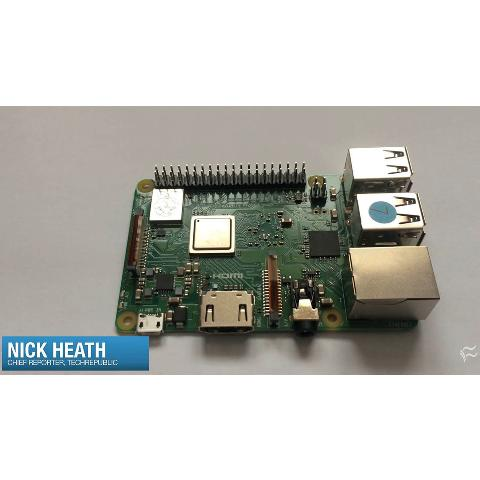Raspberry-Pi-3-Model-B-: (112, 142, 444, 342)
